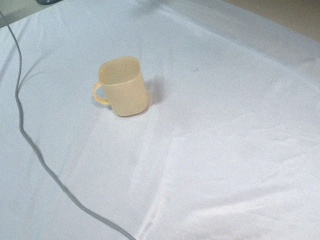cup: (92, 54, 153, 118)
